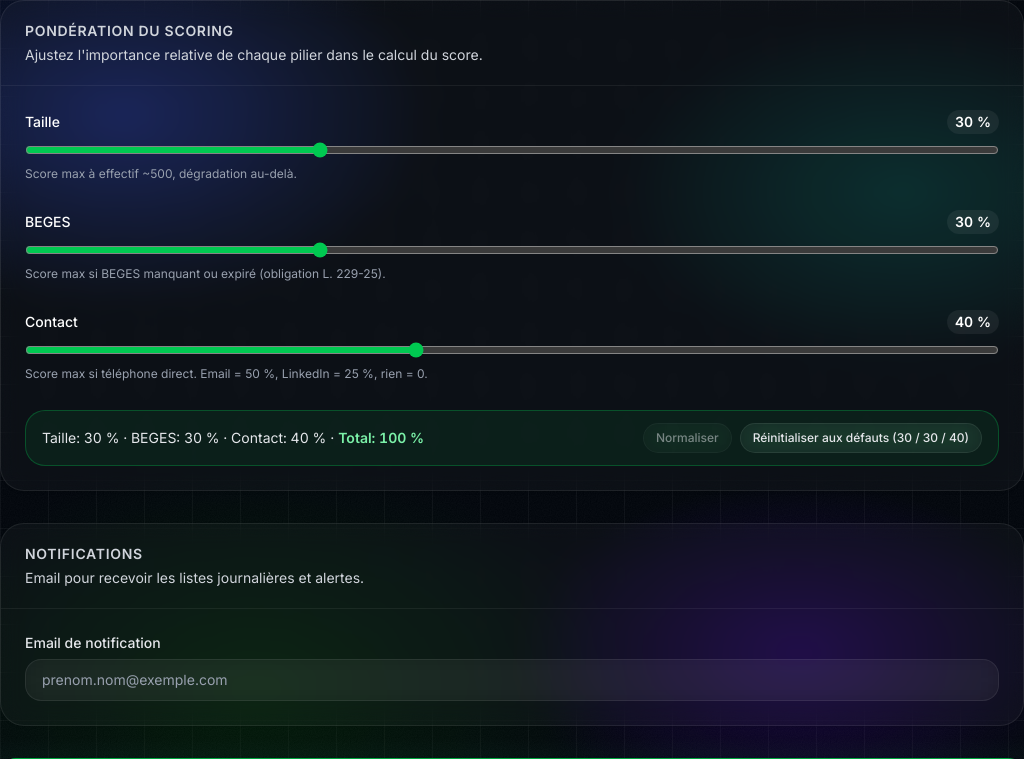
SettingsForm — pondération du scoring › le bouton "Normaliser" re-projette les poids à 100
The width and height of the screenshot is (1024, 759).
Set the slider named "Pondération Taille" to "60". click: (608, 150)
box: 25,142 -> 999,158
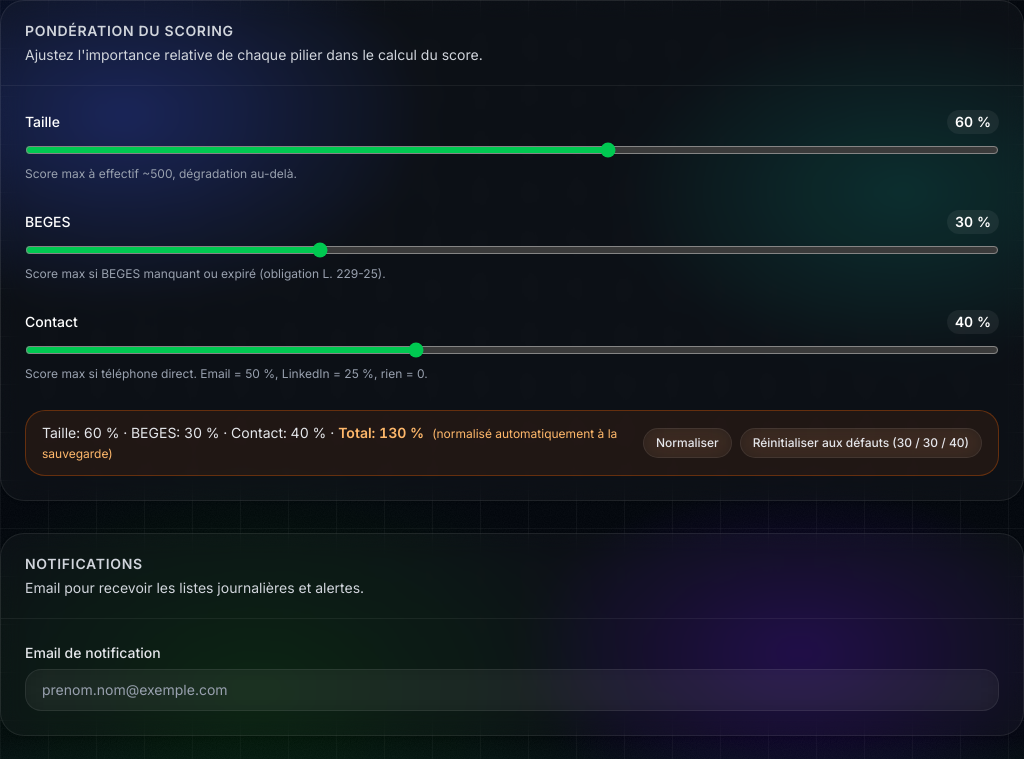
Result: the text "Total: 130 %" is shown at 338,424 -> 424,441
Click the button "Normaliser". click: (687, 443)
box: 643,428 -> 732,458
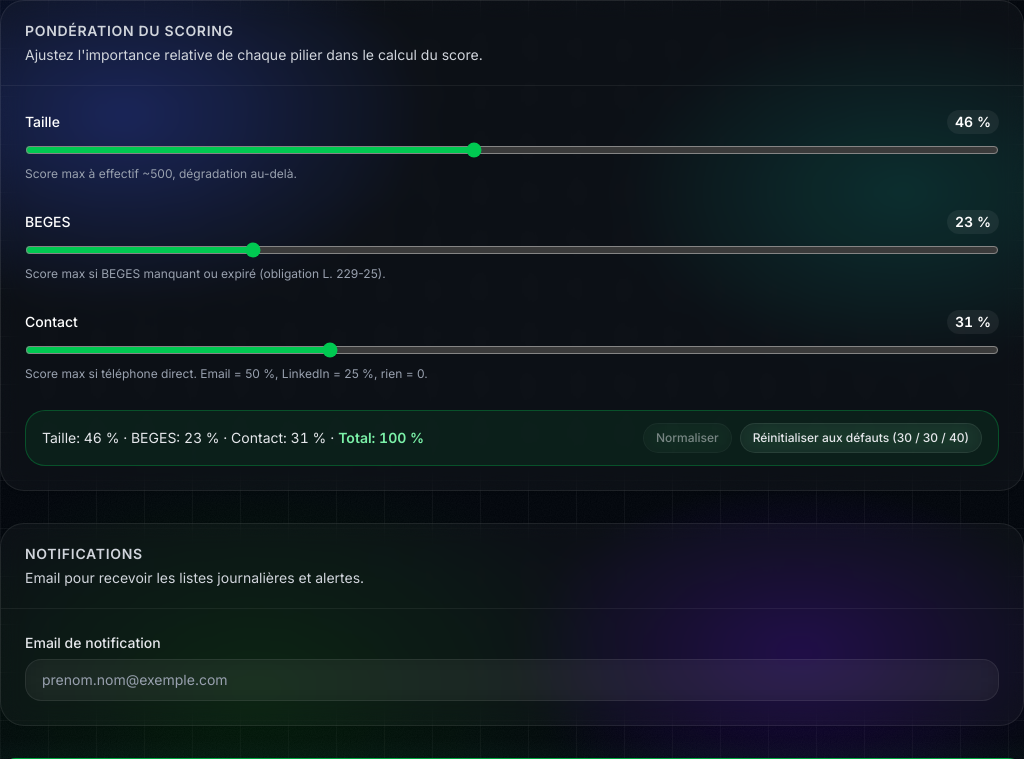
Result: the text "Total: 100 %" is shown at 338,429 -> 424,446
